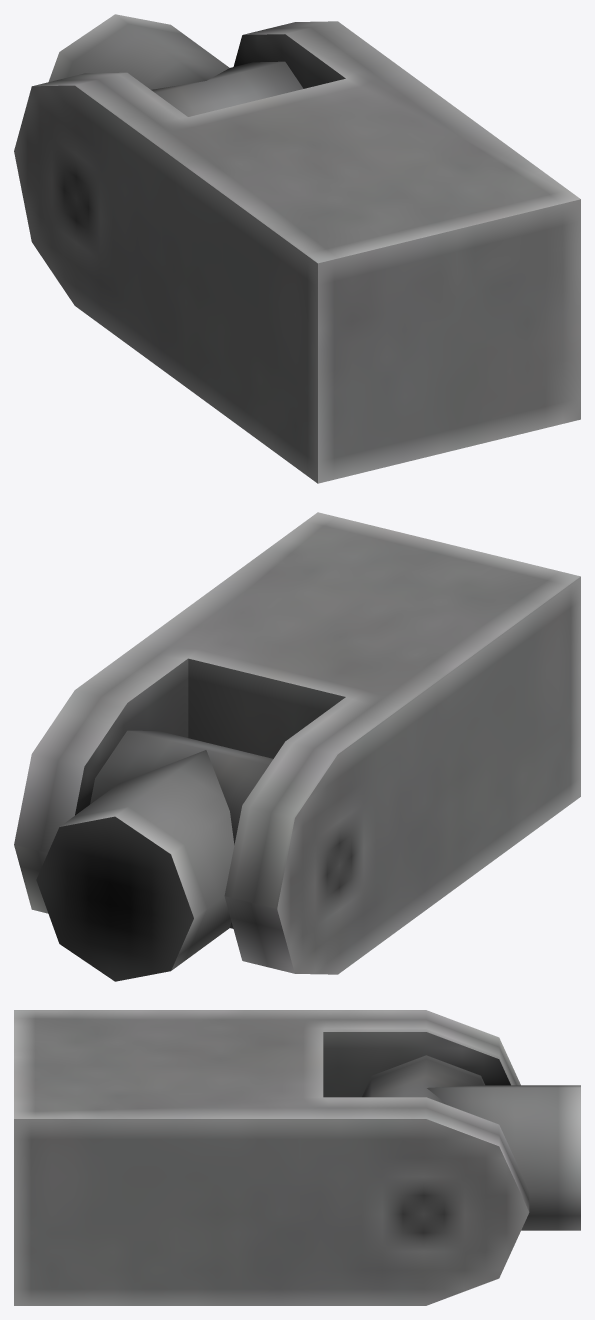
The model's file is piston base.obj.
The picture shows the model from 3 angles, top to bottom: view 1: azimuth 30°, elevation 25°; view 2: azimuth 150°, elevation 25°; view 3: azimuth 270°, elevation 25°; orthographic projection. The views are drawn at different scales.
Parts seen in each view (by area): view 1: base; view 2: base; view 3: base.
Part boxes in pixels (x1,y1,x2,y2): base: (14,14,580,483); base: (14,512,580,981); base: (14,1010,580,1305).
Size of the model in its own units: 0.0625 by 0.05 by 0.1375.
Materials: 1 (1 with a texture image).
